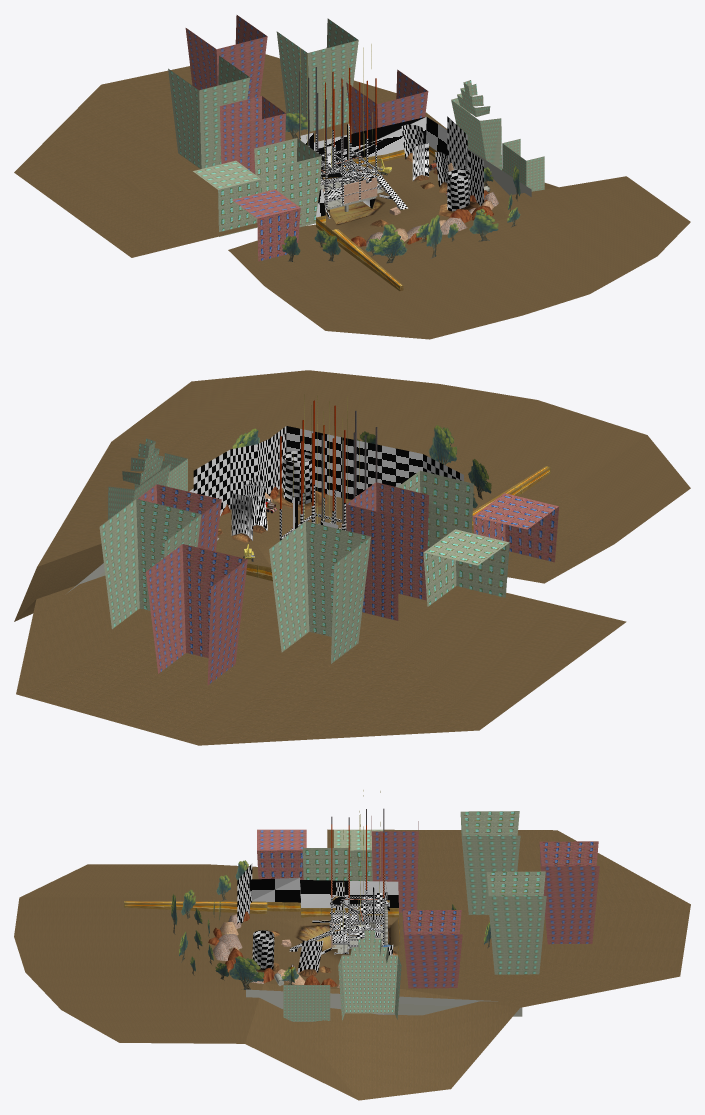
Rendered from Construction.FBX.
3 views of the same model, one above another, from view 1: azimuth 30°, elevation 25°; view 2: azimuth 150°, elevation 25°; view 3: azimuth 270°, elevation 25° (orthographic). The views are drawn at different scales.
Parts seen in each view (by area): view 1: Object22, Object21, basement, building 06, building 07, Fence, building 03, building 02, building 08, Building 02, building 05, Building 01 (+11 smaller); view 2: Object21, Object22, building 07, building 08, Area Collide, building 02, building 06, Building 01, Object23, Building 02, building 03, basement (+10 smaller); view 3: Object22, Object21, Object20, building 06, building 08, Fence, basement, building 07, building 05, Buildings, Object23, building 02 (+12 smaller).
Boxes of the visible parts, bbox=[...] form: Object22: bbox=[228, 176, 690, 339]; Object21: bbox=[14, 54, 396, 257]; basement: bbox=[299, 144, 508, 261]; building 06: bbox=[276, 18, 358, 131]; building 07: bbox=[168, 55, 249, 168]; Fence: bbox=[314, 116, 447, 291]; building 03: bbox=[254, 138, 321, 227]; building 02: bbox=[219, 96, 285, 174]; building 08: bbox=[185, 15, 267, 99]; Building 02: bbox=[232, 189, 300, 261]; building 05: bbox=[346, 69, 428, 133]; Building 01: bbox=[193, 160, 261, 236]; Object21: bbox=[16, 575, 626, 745]; Object22: bbox=[111, 370, 690, 583]; building 07: bbox=[269, 521, 370, 663]; building 08: bbox=[146, 544, 247, 685]; Area Collide: bbox=[193, 426, 463, 515]; building 02: bbox=[346, 482, 428, 620]; building 06: bbox=[99, 499, 201, 629]; Building 01: bbox=[423, 529, 509, 606]; Object23: bbox=[37, 442, 196, 566]; Building 02: bbox=[472, 493, 558, 562]; building 03: bbox=[397, 470, 473, 548]; basement: bbox=[215, 494, 473, 581]; Object22: bbox=[14, 864, 263, 1043]; Object21: bbox=[327, 829, 690, 1007]; Object20: bbox=[265, 983, 519, 1100]; building 06: bbox=[486, 871, 546, 974]; building 08: bbox=[539, 841, 599, 944]; Fence: bbox=[124, 877, 399, 956]; basement: bbox=[208, 911, 403, 988]; building 07: bbox=[460, 811, 520, 914]; building 05: bbox=[402, 910, 462, 988]; Buildings: bbox=[338, 930, 401, 1020]; Object23: bbox=[245, 983, 357, 1099]; building 02: bbox=[371, 816, 418, 912].
Size of what is drawn, in the model's own units: 39447 by 17806 by 52047.
